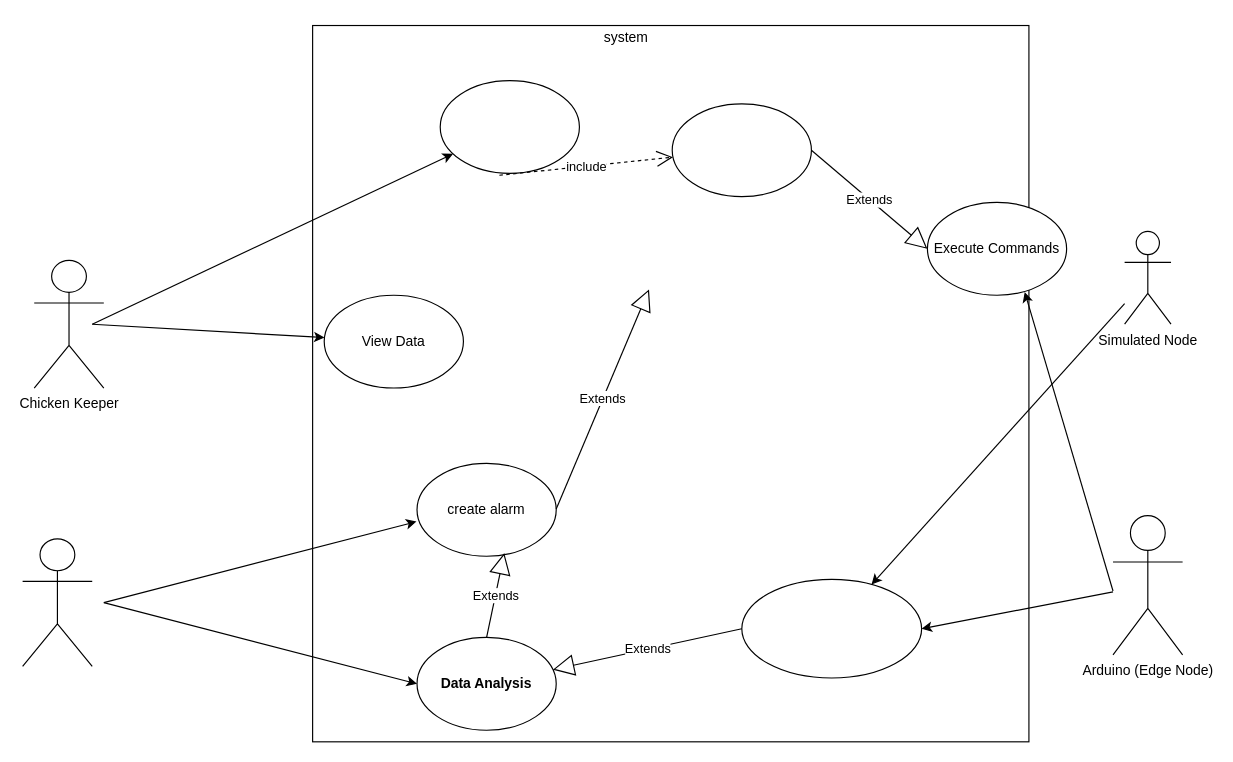
Image size: 1233x762. Some labels were removed from this diagram. The shapes that lost their labels are listed below. From the top down, each one's box as (x1, y1, x2, y2) in pixels, then its label:
(439, 79, 579, 173): Control activity
(671, 103, 811, 197): Send Commands
(21, 538, 92, 666): timer
(741, 578, 922, 678): Data uploaded to server
